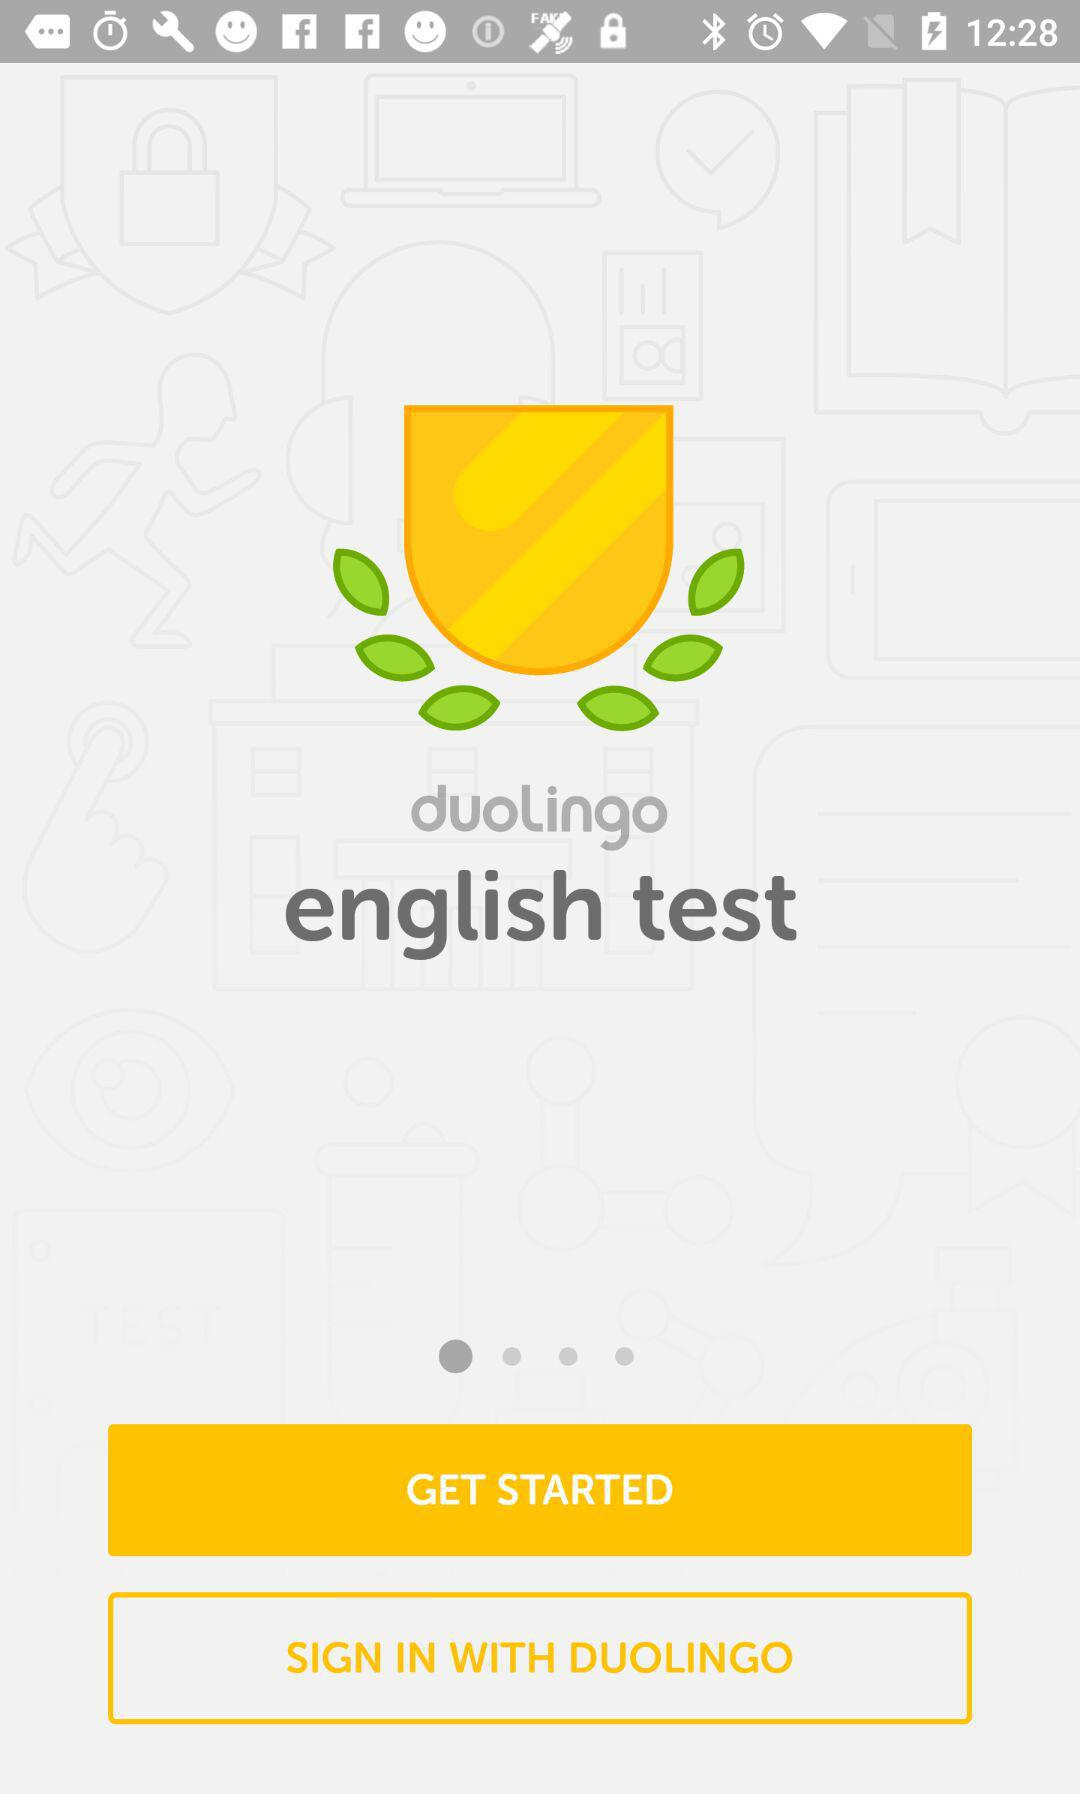BackgroundImage: (1, 64, 1080, 1794)
Image: (331, 401, 746, 732)
PageIndicator: (437, 1337, 635, 1376)
Text: (284, 868, 798, 964), (411, 784, 670, 852)
TextButton: (108, 1422, 972, 1558), (109, 1592, 972, 1725)
UpperTaskBar: (1, 1, 1080, 64)
